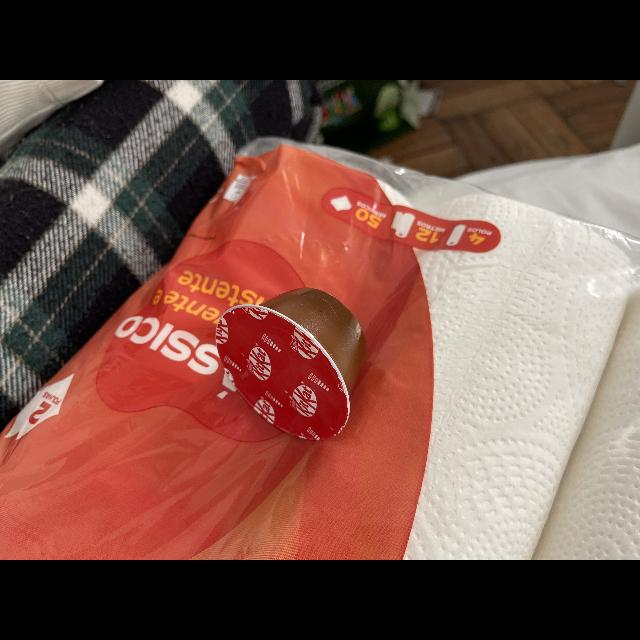intact_capsule: (214, 270, 376, 450)
